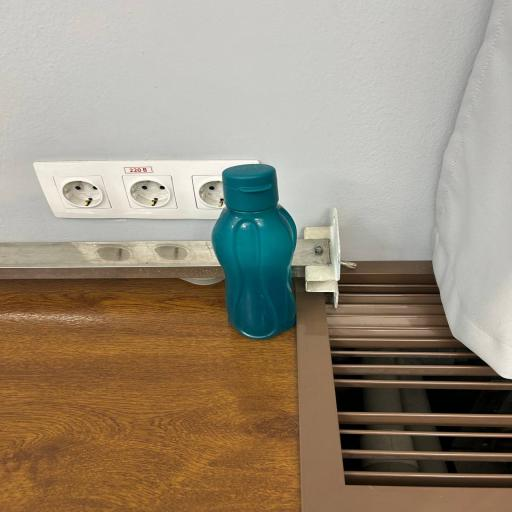bench: (212, 164, 297, 339)
